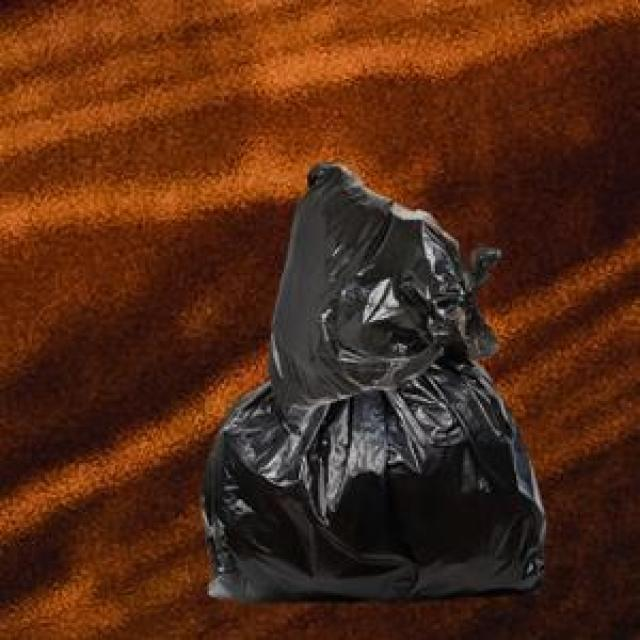Trashbag: (198, 397, 554, 606), (267, 161, 498, 415)
